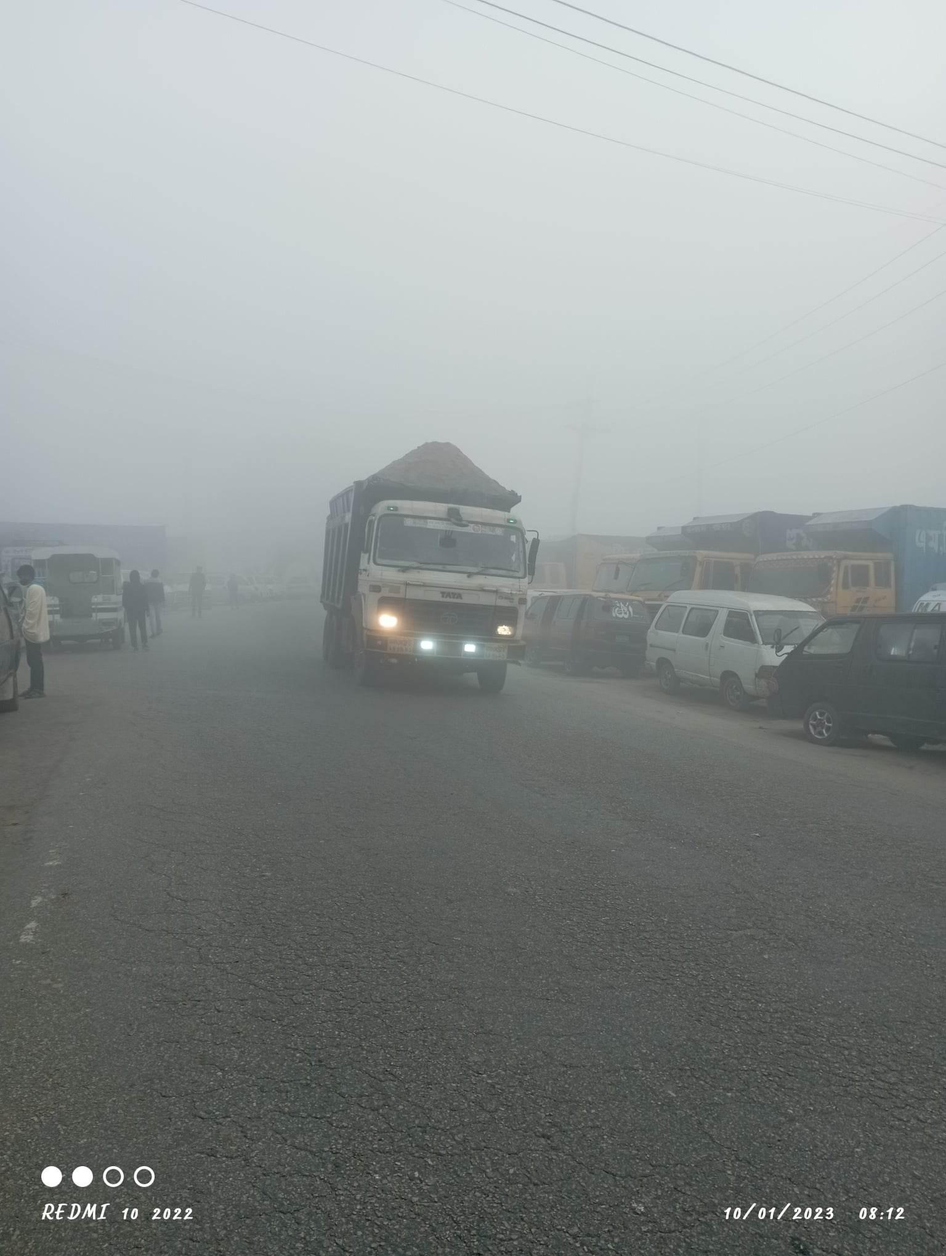Car: (765, 605, 946, 757), (647, 579, 808, 728), (26, 527, 152, 662)
Truck: (297, 437, 555, 748)
